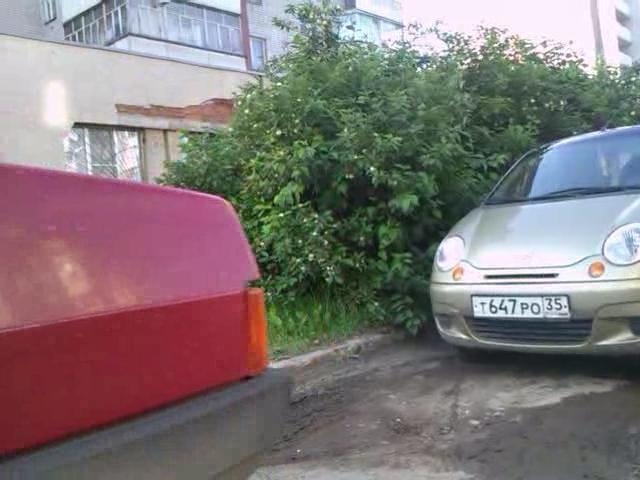license-plateSW: (470, 297, 571, 319)
